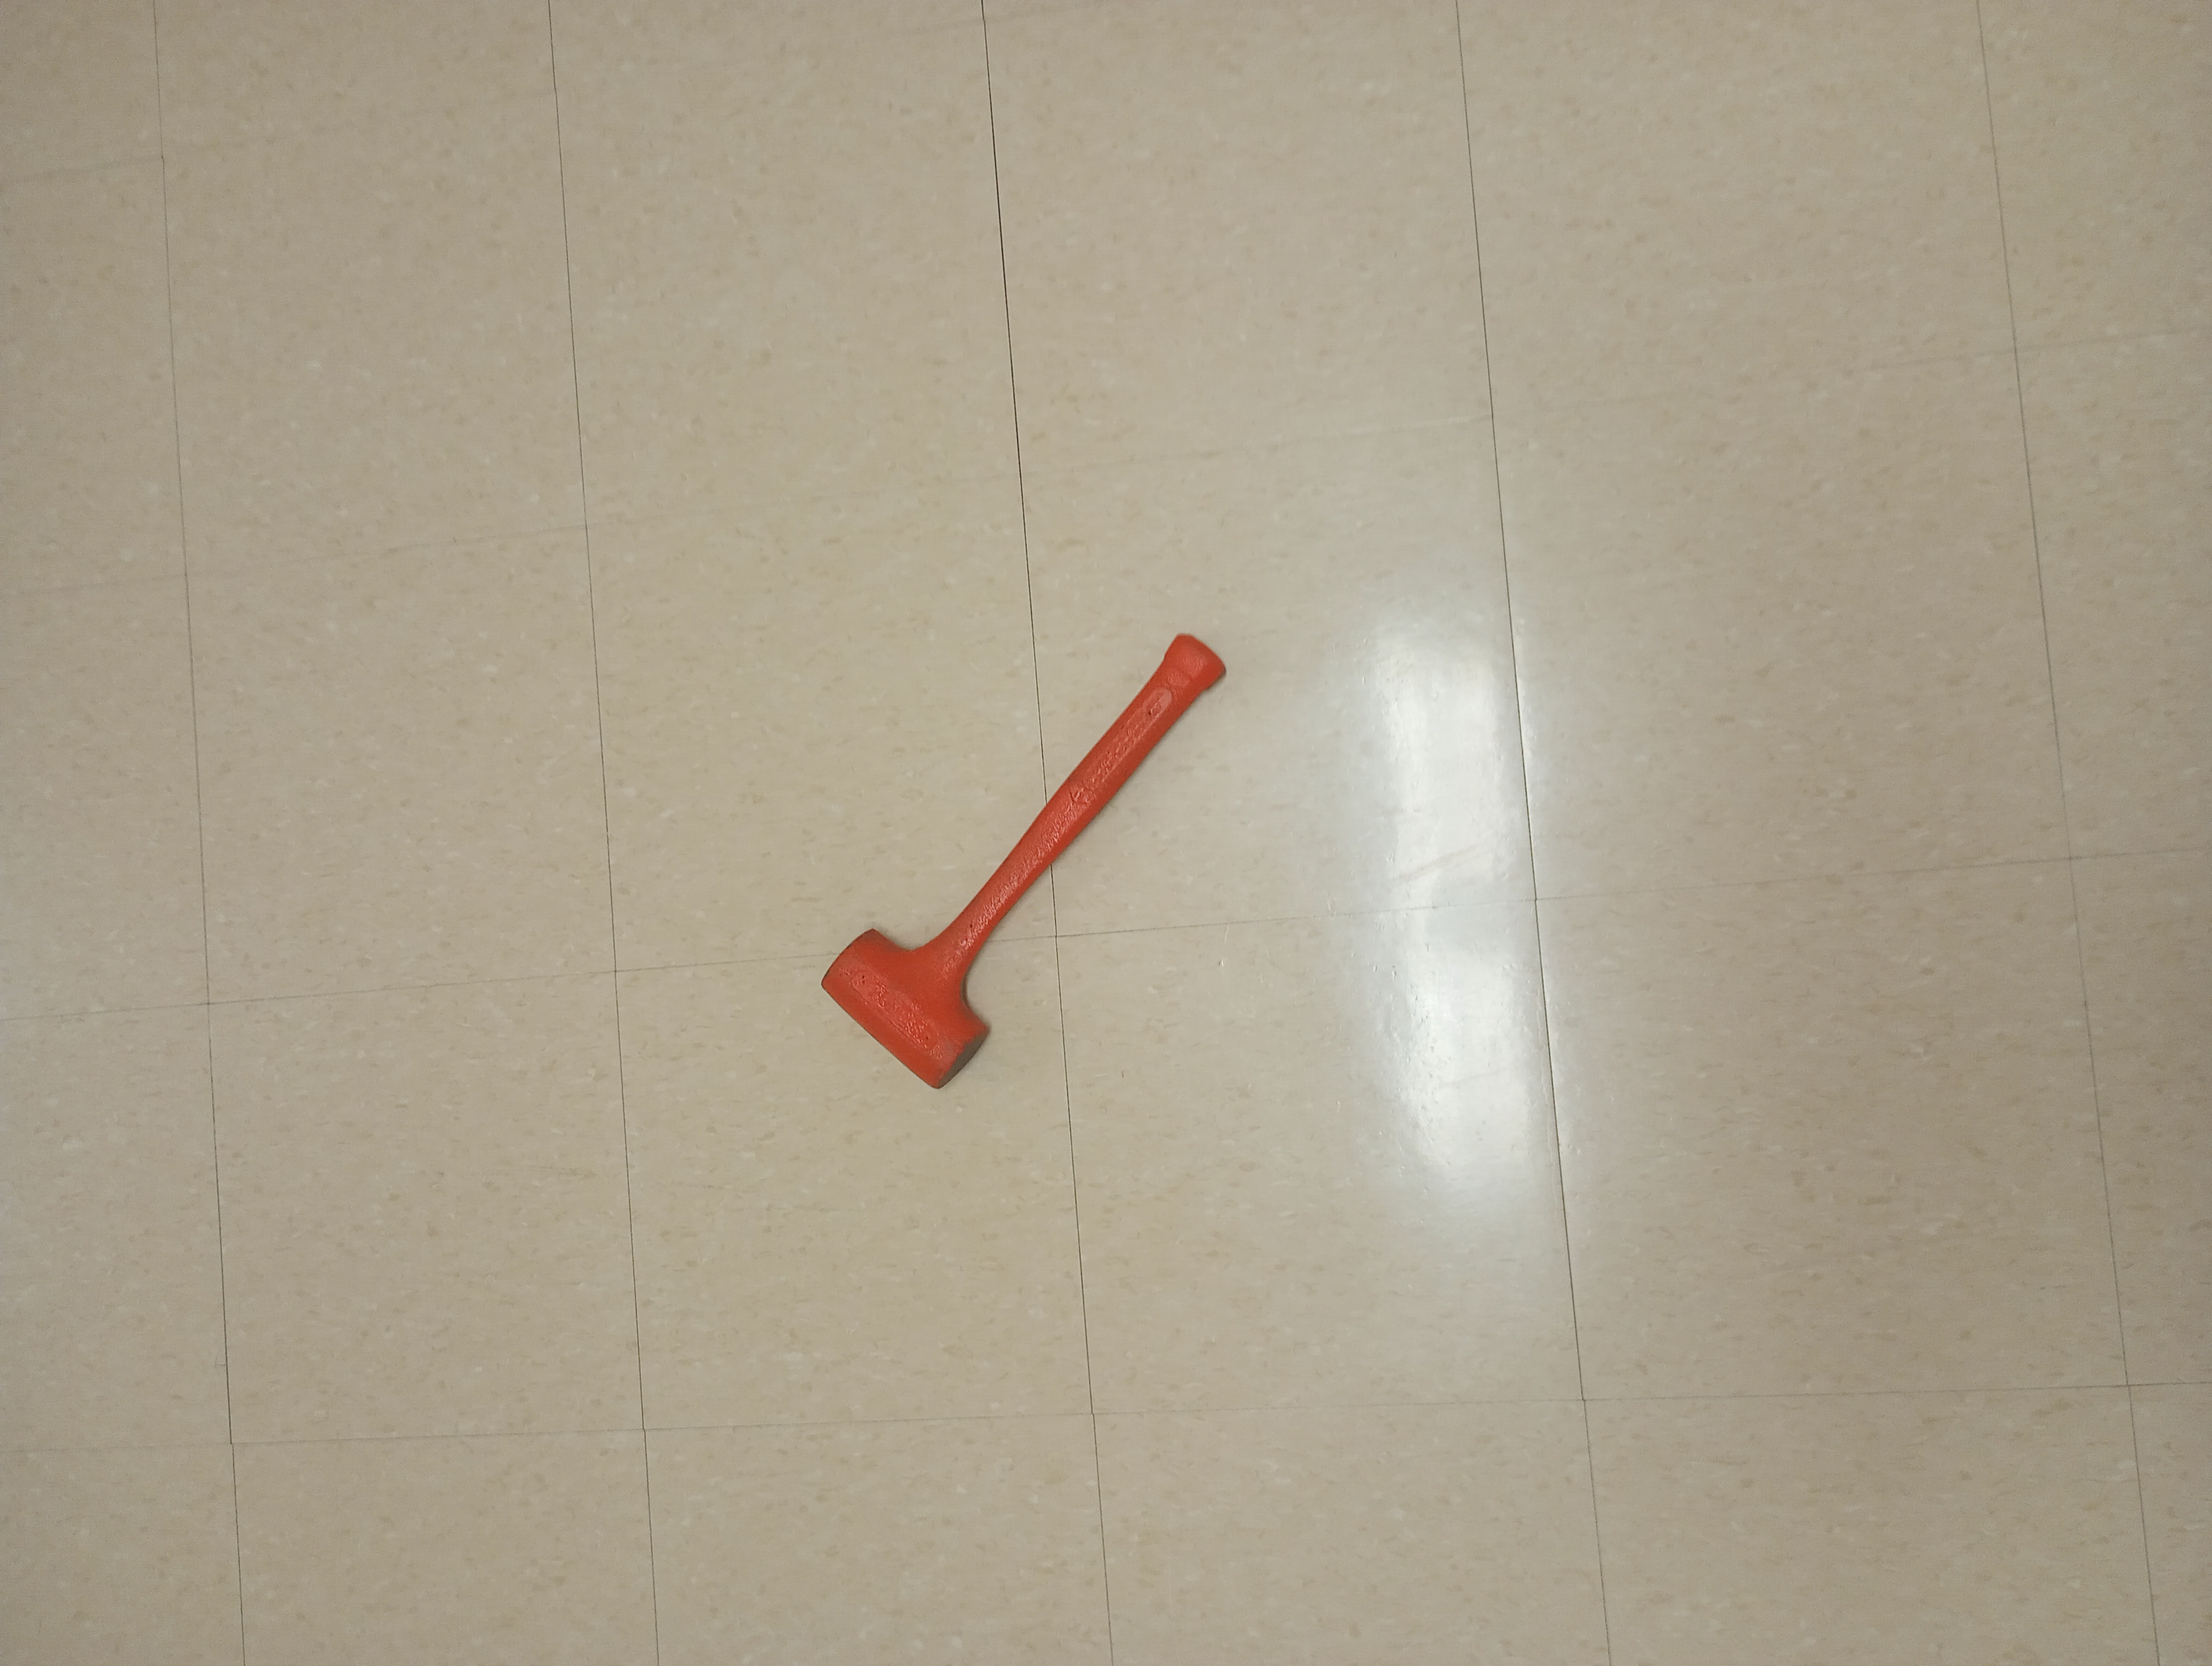bottle: (811, 623, 1233, 1101)
